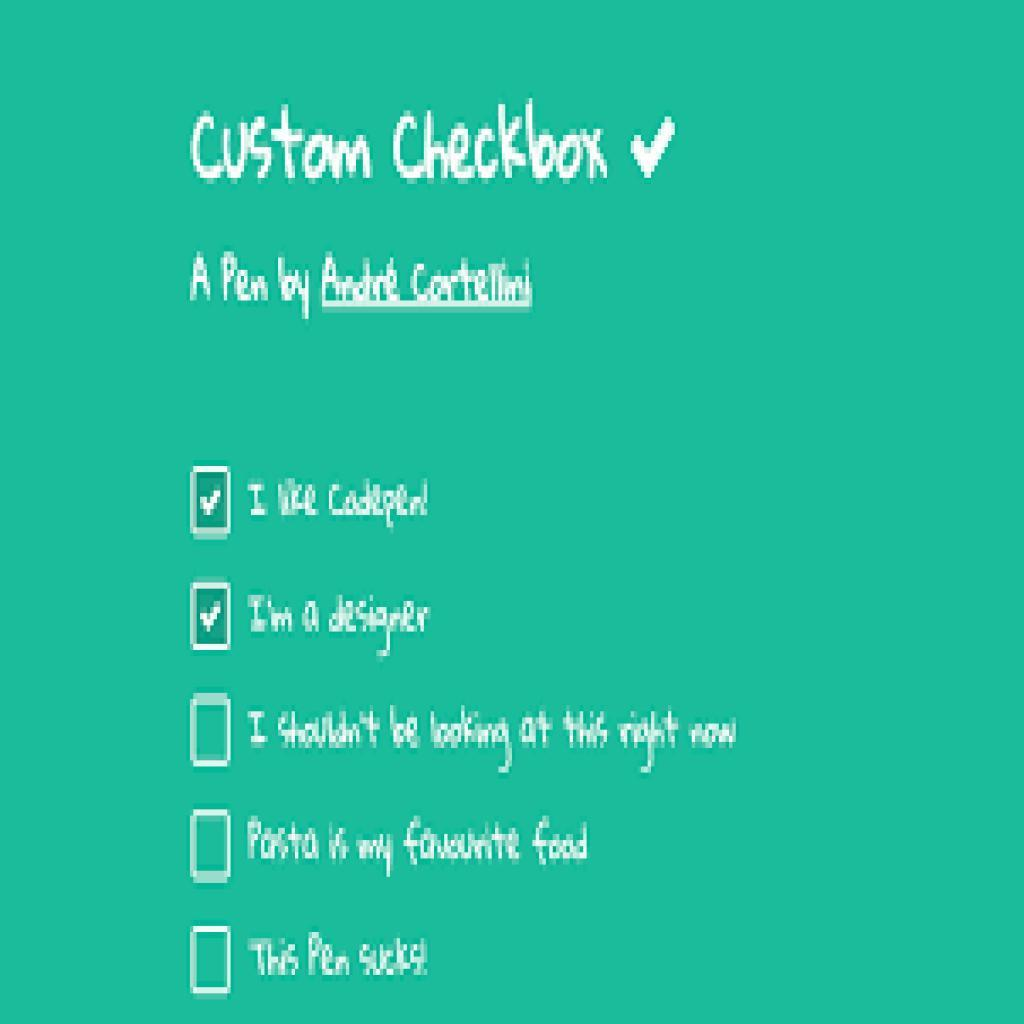checkbox: (188, 465, 235, 541), (189, 581, 233, 655), (190, 811, 234, 884), (190, 694, 232, 768), (189, 926, 234, 995)
label: (246, 705, 758, 760), (243, 815, 601, 863), (247, 476, 449, 531), (246, 590, 437, 647), (252, 933, 440, 984)
